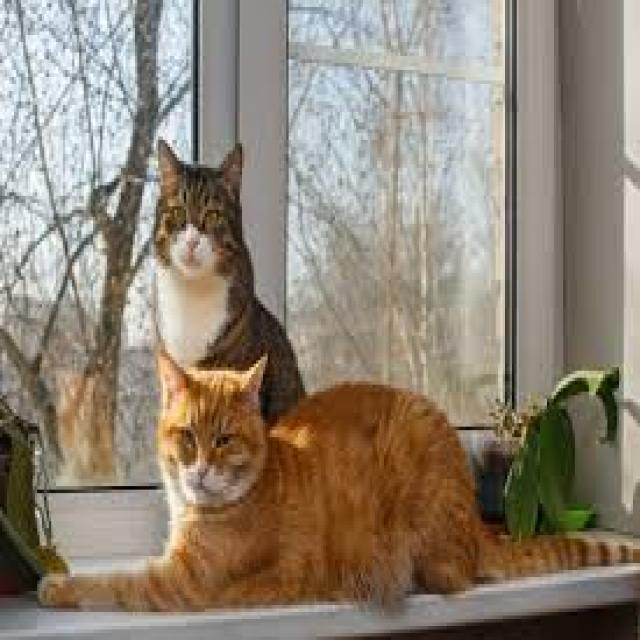Cat: (36, 342, 640, 617), (147, 131, 304, 389)
